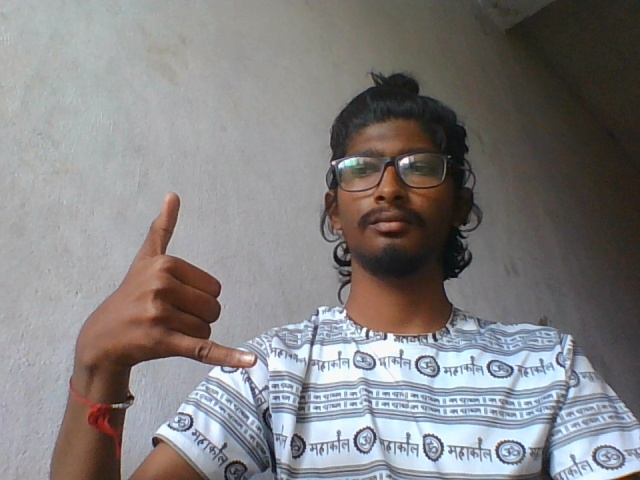Yes: (50, 186, 278, 396)
